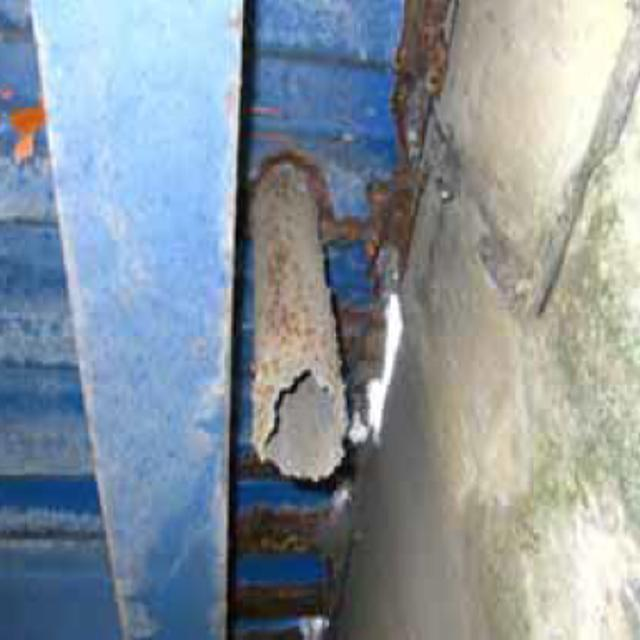corrosion: (256, 18, 434, 596)
